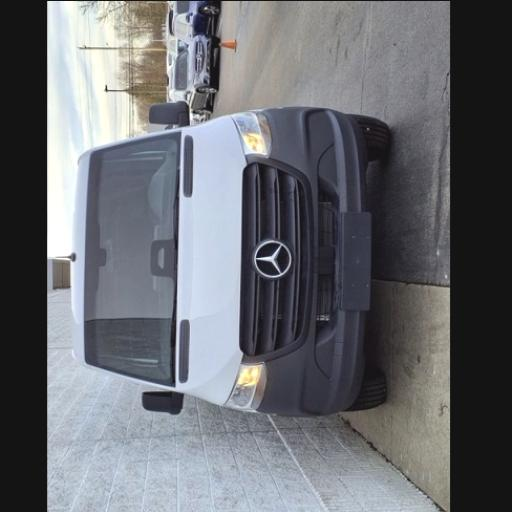hatchback: (171, 35, 218, 113), (171, 0, 218, 44)
truck: (165, 10, 175, 56)
van: (70, 103, 389, 418)
